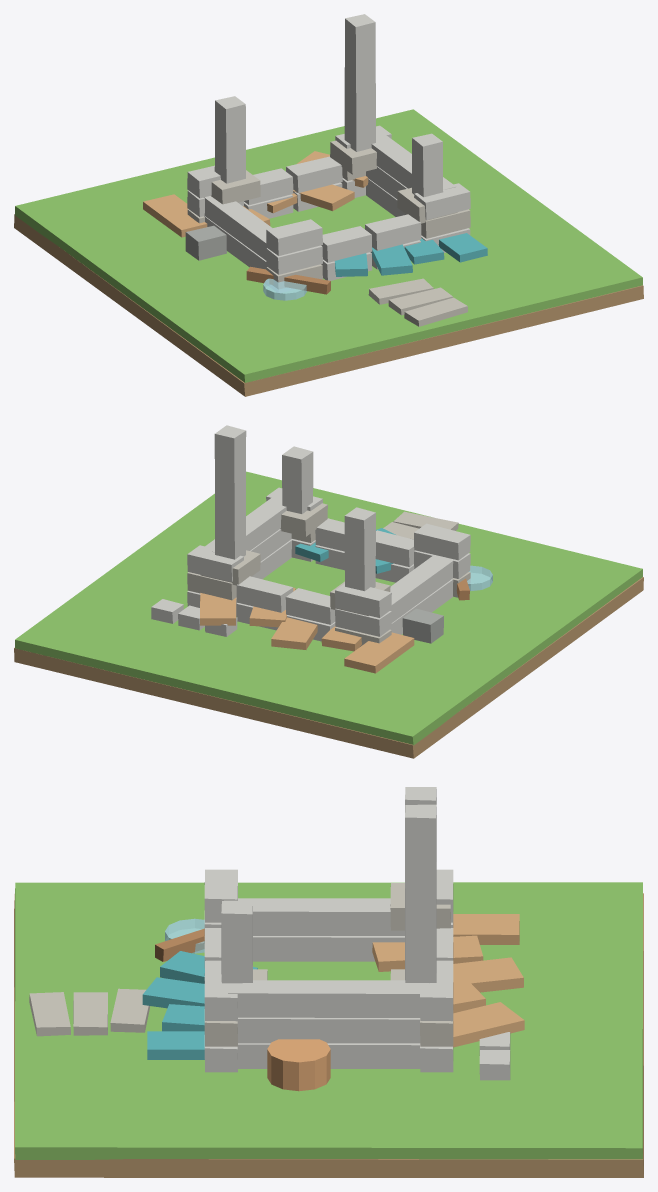
File: tower_l04_ruined_LOD2.glb
The picture shows the model from 3 angles, top to bottom: view 1: azimuth 30°, elevation 25°; view 2: azimuth 150°, elevation 25°; view 3: azimuth 270°, elevation 25°; orthographic projection. The views are drawn at different scales.
Parts seen in each view (by area): view 1: tower_l04_grass_tile_tower_l04_ruined_LOD2_tmp, tower_l04_earth_tile_tower_l04_ruined_LOD2_tmp, snapped_upright_0.58_0.52_tower_l04_ruined_LOD2_tmp, snapped_upright_-0.58_0.52_tower_l04_ruined_LOD2_tmp, ruin_stone_return_1_-0.72_tower_l04_ruined_LOD2_tmp, snapped_upright_0.58_-0.52_tower_l04_ruined_LOD2_tmp, ruin_stone_course_2_-1_0_tower_l04_ruined_LOD2_tmp, ruin_stone_return_2_0.72_tower_l04_ruined_LOD2_tmp, ruin_stone_course_1_-1_2_tower_l04_ruined_LOD2_tmp, ruin_stone_course_1_1_2_tower_l04_ruined_LOD2_tmp, collapsed_deck_0_tower_l04_ruined_LOD2_tmp, ruin_stone_course_1_-1_1_tower_l04_ruined_LOD2_tmp (+23 smaller); view 2: tower_l04_grass_tile_tower_l04_ruined_LOD2_tmp, tower_l04_earth_tile_tower_l04_ruined_LOD2_tmp, snapped_upright_0.58_0.52_tower_l04_ruined_LOD2_tmp, snapped_upright_-0.58_0.52_tower_l04_ruined_LOD2_tmp, ruin_stone_return_1_-0.72_tower_l04_ruined_LOD2_tmp, snapped_upright_0.58_-0.52_tower_l04_ruined_LOD2_tmp, collapsed_deck_0_tower_l04_ruined_LOD2_tmp, ruin_stone_course_2_-1_0_tower_l04_ruined_LOD2_tmp, ruin_stone_return_2_0.72_tower_l04_ruined_LOD2_tmp, ruin_stone_course_1_1_2_tower_l04_ruined_LOD2_tmp, ruin_stone_course_2_1_0_tower_l04_ruined_LOD2_tmp, ruin_stone_course_1_1_1_tower_l04_ruined_LOD2_tmp (+19 smaller); view 3: tower_l04_grass_tile_tower_l04_ruined_LOD2_tmp, tower_l04_earth_tile_tower_l04_ruined_LOD2_tmp, ruin_stone_return_2_0.72_tower_l04_ruined_LOD2_tmp, snapped_upright_0.58_0.52_tower_l04_ruined_LOD2_tmp, ruin_stone_return_1_-0.72_tower_l04_ruined_LOD2_tmp, ruin_stone_return_1_0.72_tower_l04_ruined_LOD2_tmp, ruin_stone_return_0_-0.72_tower_l04_ruined_LOD2_tmp, ruin_stone_return_0_0.72_tower_l04_ruined_LOD2_tmp, fallen_bell_tower_l04_ruined_LOD2_tmp, snapped_upright_0.58_-0.52_tower_l04_ruined_LOD2_tmp, collapsed_deck_4_tower_l04_ruined_LOD2_tmp, collapsed_deck_2_tower_l04_ruined_LOD2_tmp (+25 smaller).
Part boxes in pixels (x1,y1,x2,y2): tower_l04_grass_tile_tower_l04_ruined_LOD2_tmp: (15, 109, 642, 382); tower_l04_earth_tile_tower_l04_ruined_LOD2_tmp: (14, 214, 643, 396); snapped_upright_0.58_0.52_tower_l04_ruined_LOD2_tmp: (344, 14, 375, 151); snapped_upright_-0.58_0.52_tower_l04_ruined_LOD2_tmp: (214, 96, 245, 183); ruin_stone_return_1_-0.72_tower_l04_ruined_LOD2_tmp: (204, 196, 272, 260); snapped_upright_0.58_-0.52_tower_l04_ruined_LOD2_tmp: (412, 133, 443, 197); ruin_stone_course_2_-1_0_tower_l04_ruined_LOD2_tmp: (266, 219, 322, 255); ruin_stone_return_2_0.72_tower_l04_ruined_LOD2_tmp: (371, 134, 456, 189); ruin_stone_course_1_-1_2_tower_l04_ruined_LOD2_tmp: (365, 214, 421, 250); ruin_stone_course_1_1_2_tower_l04_ruined_LOD2_tmp: (286, 156, 342, 192); collapsed_deck_0_tower_l04_ruined_LOD2_tmp: (143, 194, 207, 237); ruin_stone_course_1_-1_1_tower_l04_ruined_LOD2_tmp: (321, 226, 372, 262); tower_l04_grass_tile_tower_l04_ruined_LOD2_tmp: (15, 471, 642, 745); tower_l04_earth_tile_tower_l04_ruined_LOD2_tmp: (14, 577, 643, 758); snapped_upright_0.58_0.52_tower_l04_ruined_LOD2_tmp: (214, 425, 246, 559); snapped_upright_-0.58_0.52_tower_l04_ruined_LOD2_tmp: (344, 507, 375, 591); ruin_stone_return_1_-0.72_tower_l04_ruined_LOD2_tmp: (390, 555, 453, 622); snapped_upright_0.58_-0.52_tower_l04_ruined_LOD2_tmp: (282, 446, 313, 513); collapsed_deck_0_tower_l04_ruined_LOD2_tmp: (344, 632, 414, 673); ruin_stone_course_2_-1_0_tower_l04_ruined_LOD2_tmp: (414, 523, 470, 560); ruin_stone_return_2_0.72_tower_l04_ruined_LOD2_tmp: (205, 495, 286, 552); ruin_stone_course_1_1_2_tower_l04_ruined_LOD2_tmp: (236, 576, 293, 612); ruin_stone_course_2_1_0_tower_l04_ruined_LOD2_tmp: (335, 583, 391, 617); ruin_stone_course_1_1_1_tower_l04_ruined_LOD2_tmp: (285, 588, 335, 624); tower_l04_grass_tile_tower_l04_ruined_LOD2_tmp: (15, 882, 642, 1159); tower_l04_earth_tile_tower_l04_ruined_LOD2_tmp: (14, 893, 643, 1177); ruin_stone_return_2_0.72_tower_l04_ruined_LOD2_tmp: (228, 980, 429, 1017); snapped_upright_0.58_0.52_tower_l04_ruined_LOD2_tmp: (405, 804, 436, 982); ruin_stone_return_1_-0.72_tower_l04_ruined_LOD2_tmp: (238, 898, 404, 935); ruin_stone_return_1_0.72_tower_l04_ruined_LOD2_tmp: (237, 1017, 420, 1043); ruin_stone_return_0_-0.72_tower_l04_ruined_LOD2_tmp: (253, 936, 404, 961); ruin_stone_return_0_0.72_tower_l04_ruined_LOD2_tmp: (237, 1043, 420, 1068); fallen_bell_tower_l04_ruined_LOD2_tmp: (267, 1039, 330, 1091); snapped_upright_0.58_-0.52_tower_l04_ruined_LOD2_tmp: (221, 900, 252, 983); collapsed_deck_4_tower_l04_ruined_LOD2_tmp: (453, 1002, 524, 1047); collapsed_deck_2_tower_l04_ruined_LOD2_tmp: (453, 957, 523, 992).
Bounding box in the file's own units: 3.57 × 1.73 × 3.57.
